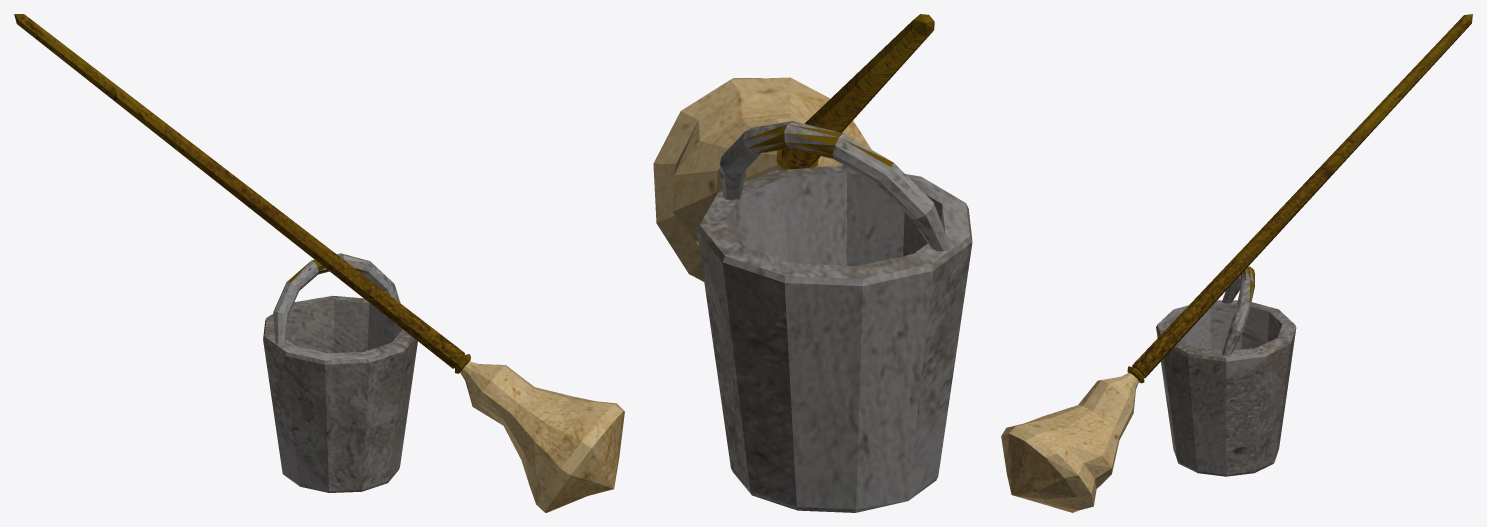
Rendered from Putzen.fbx.
3 renders of one model, left to right at view 1: azimuth 30°, elevation 25°; view 2: azimuth 150°, elevation 25°; view 3: azimuth 270°, elevation 25°, orthographic. The views are drawn at different scales.
Parts seen in each view (by area): view 1: Kegel_1; view 2: Kegel_1; view 3: Kegel_1.
Part boxes in pixels (<box>): Kegel_1: <box>14,14,624,512</box>; Kegel_1: <box>653,14,972,512</box>; Kegel_1: <box>1001,14,1472,512</box>.
Size of the model in its own units: 164 by 168 by 199.
